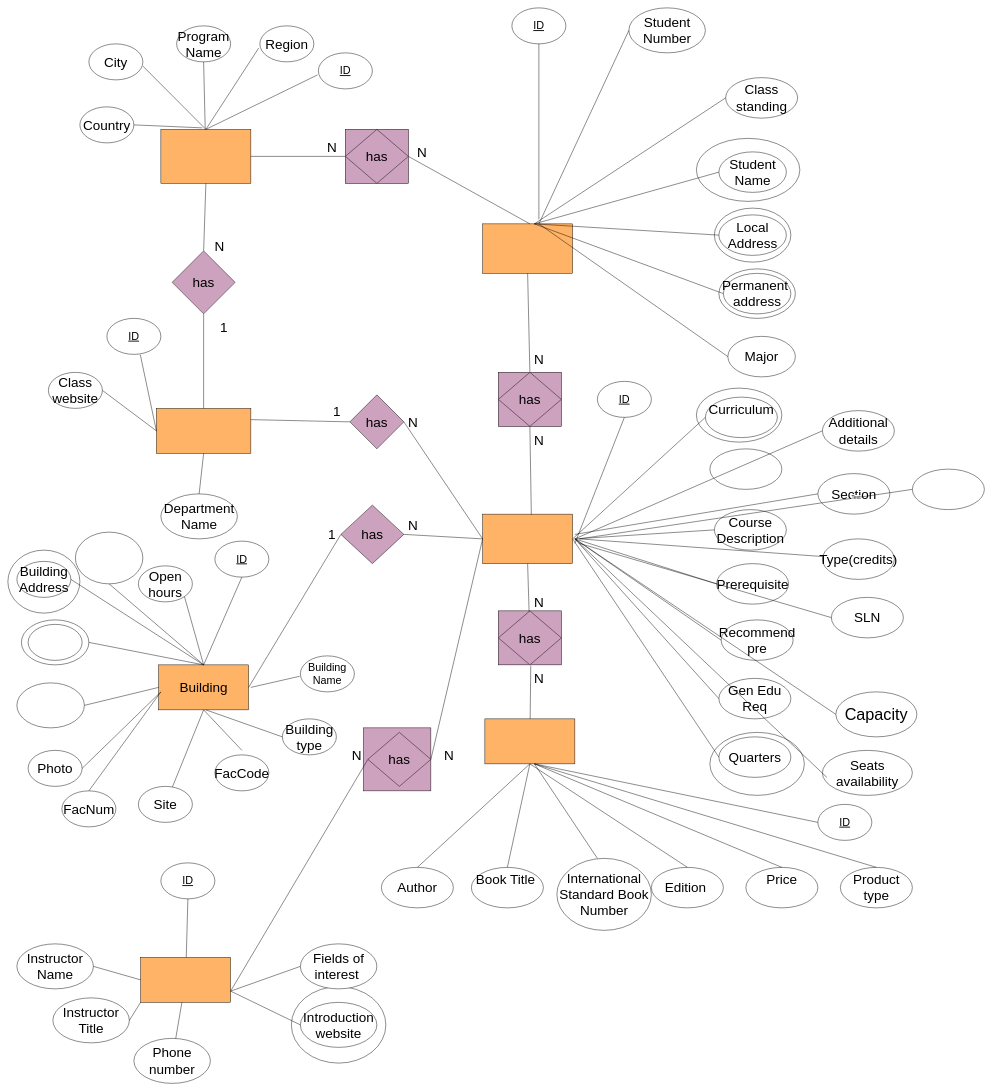
Some shapes in this 992 by 1091 pixel diagram are drawn without their labels. The shapes that lost their labels are listed below. From the top down, each one's centre as x and y in pixels, then its label:
At (x=205, y=156): "Study Abroad".
At (x=527, y=248): "Student".
At (x=203, y=430): "Department".
At (x=745, y=468): "Course Title".
At (x=948, y=489): "Meeting time".
At (x=109, y=558): "Building Number".
At (x=527, y=539): "Course".
At (x=55, y=642): "Contact".
At (x=50, y=705): "College Full Name".
At (x=529, y=741): "Textbook".
At (x=185, y=979): "Instructor".
